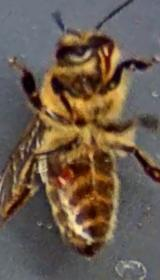varroa_mite: (48, 158, 78, 192)
